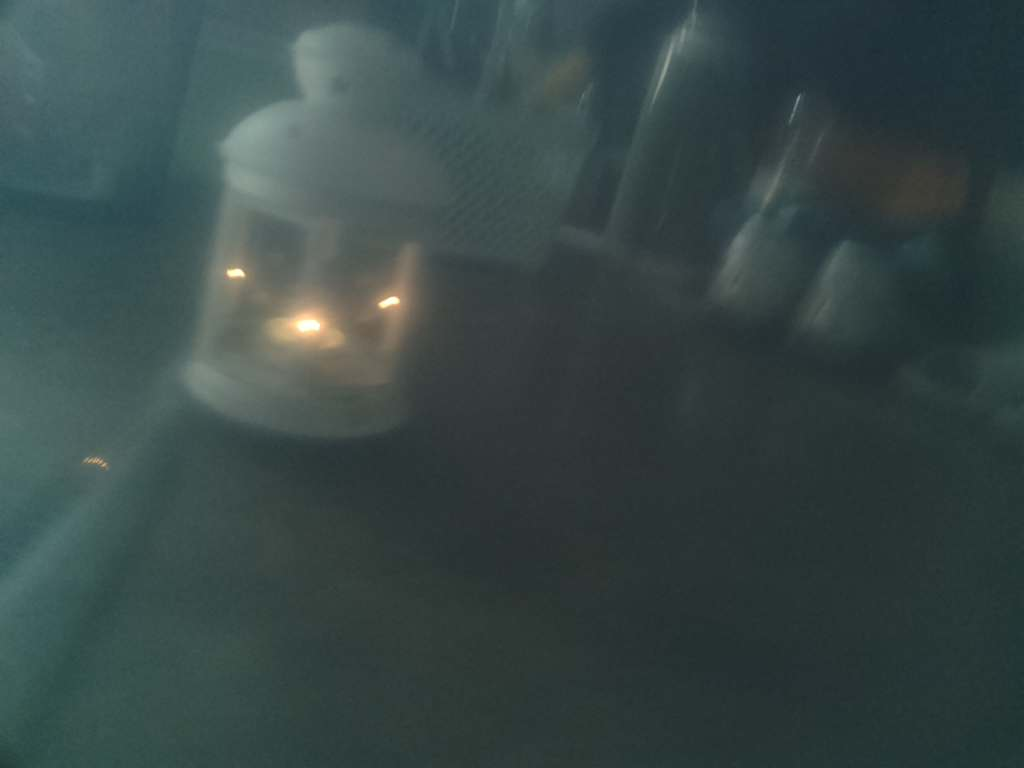fire: (270, 294, 345, 359), (360, 279, 429, 338)
